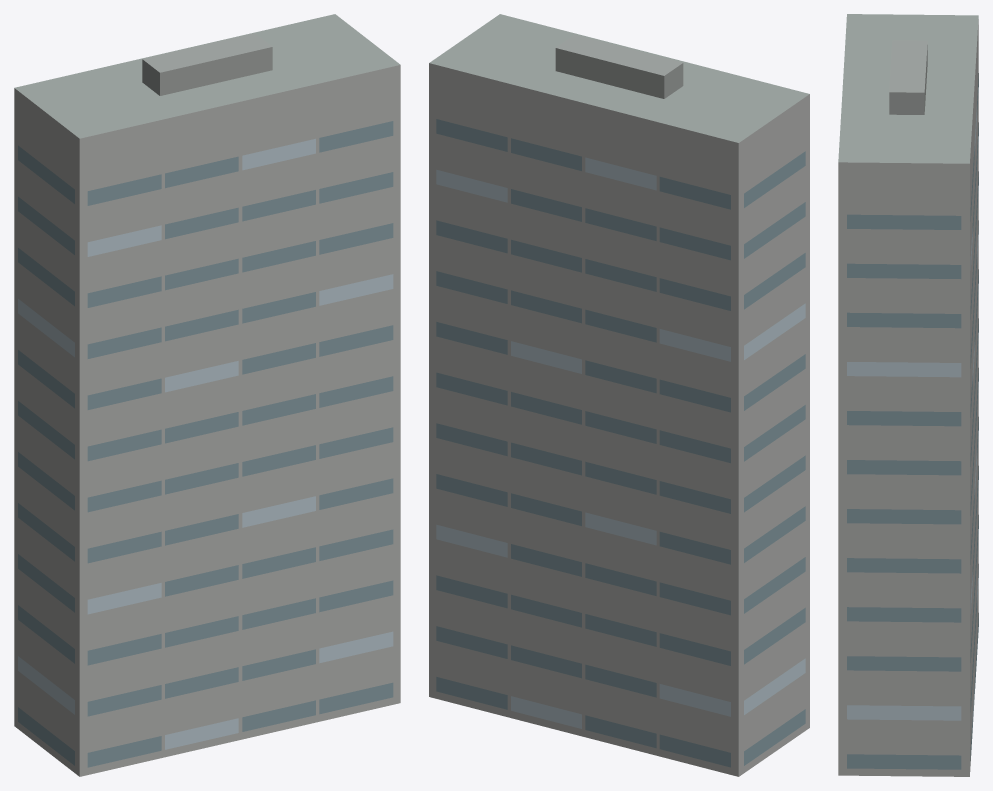
File: fallback-sk-bukhansan-city-133.glb
3 renders of one model, left to right at view 1: azimuth 30°, elevation 25°; view 2: azimuth 150°, elevation 25°; view 3: azimuth 270°, elevation 25°, orthographic. The views are drawn at different scales.
Visible parts, largest first — view 1: fallback-sk-bukhansan-city-133; view 2: fallback-sk-bukhansan-city-133; view 3: fallback-sk-bukhansan-city-133.
Part boxes in pixels (x1=…): fallback-sk-bukhansan-city-133: x1=14, y1=14, x2=400, y2=776; fallback-sk-bukhansan-city-133: x1=429, y1=14, x2=809, y2=776; fallback-sk-bukhansan-city-133: x1=838, y1=14, x2=978, y2=776.
Bounding box in the file's own units: 34.41 × 68 × 13.66.
